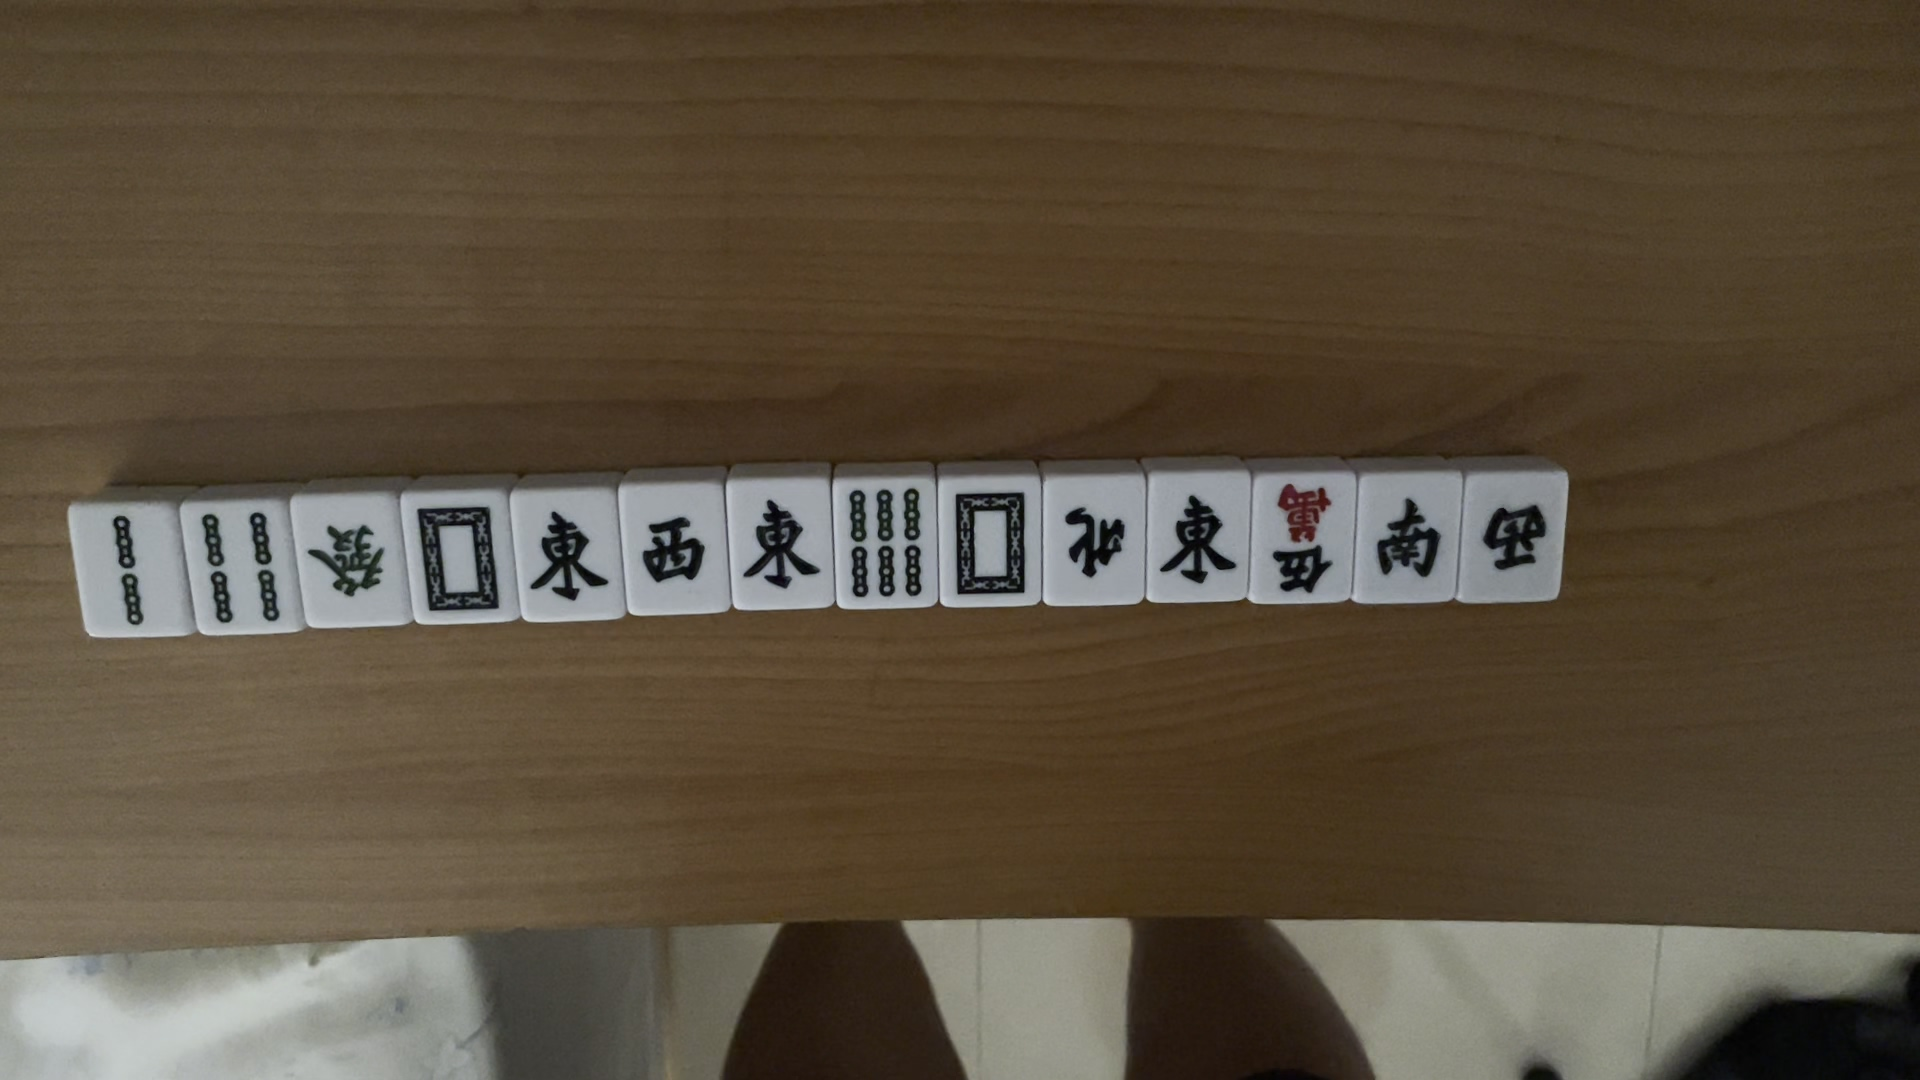b-2: (99, 512, 158, 628)
b-4: (193, 504, 286, 633)
b-6: (841, 479, 935, 605)
c-5: (1269, 480, 1342, 599)
honors-east: (516, 505, 607, 612), (733, 501, 825, 605), (1153, 489, 1242, 591)
honors-green: (303, 522, 393, 605)
honors-north: (1044, 502, 1131, 583)
honors-south: (1364, 493, 1452, 585)
honors-west: (633, 509, 713, 588), (1481, 492, 1551, 580)
honors-white: (410, 498, 506, 624), (942, 485, 1033, 603)
